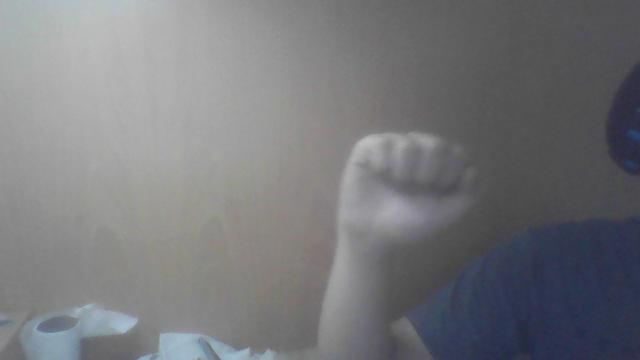forward: (316, 130, 484, 358)
